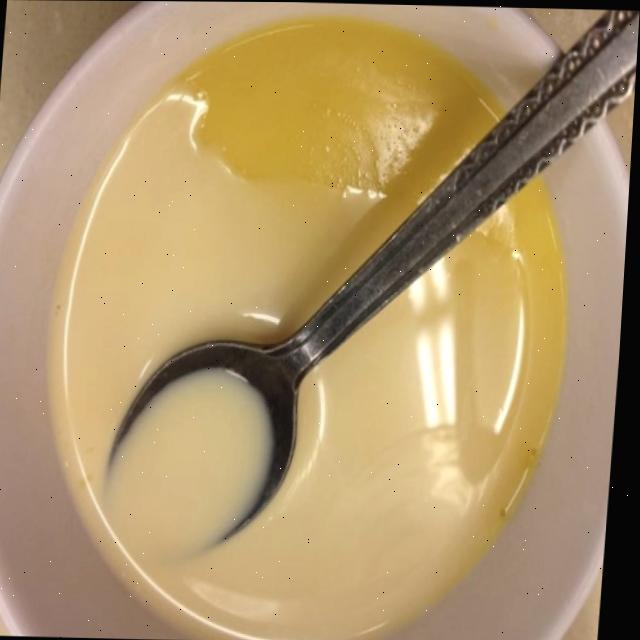蛋糕甜品: (30, 0, 635, 640)
